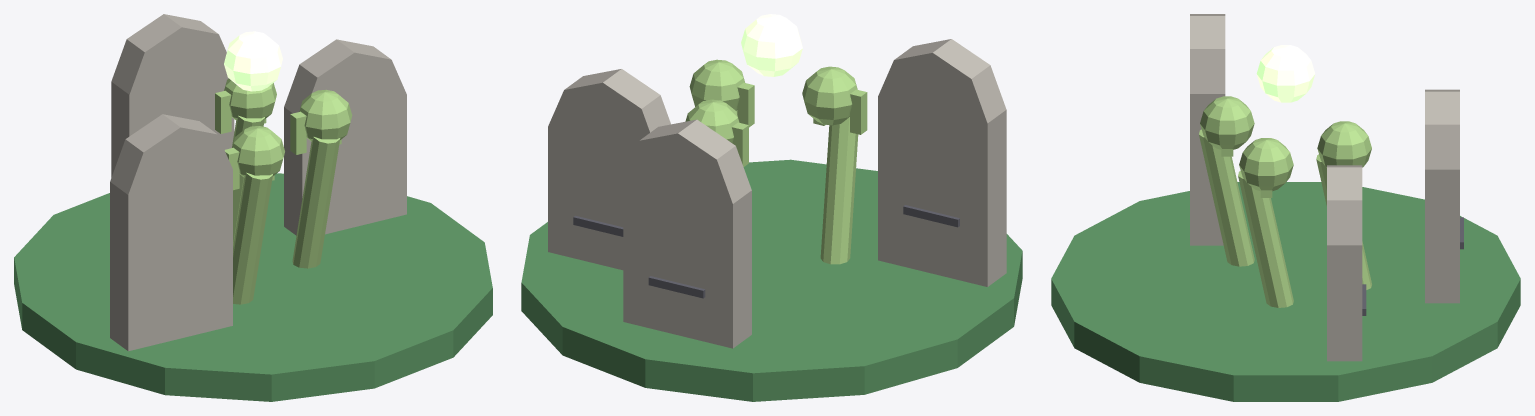
The model's file is graveyard.glb.
The picture shows the model from 3 angles, left to right: view 1: azimuth 30°, elevation 25°; view 2: azimuth 150°, elevation 25°; view 3: azimuth 270°, elevation 25°; orthographic projection. The views are drawn at different scales.
Visible parts, largest first — view 1: graveyard; view 2: graveyard; view 3: graveyard.
Boxes of the visible parts, left/top/right/bottom form: graveyard: left=14, top=14, right=492, bottom=401; graveyard: left=521, top=14, right=1022, bottom=401; graveyard: left=1051, top=14, right=1520, bottom=401.
Bounding box in the file's own units: 2.34 × 1.45 × 2.4.
